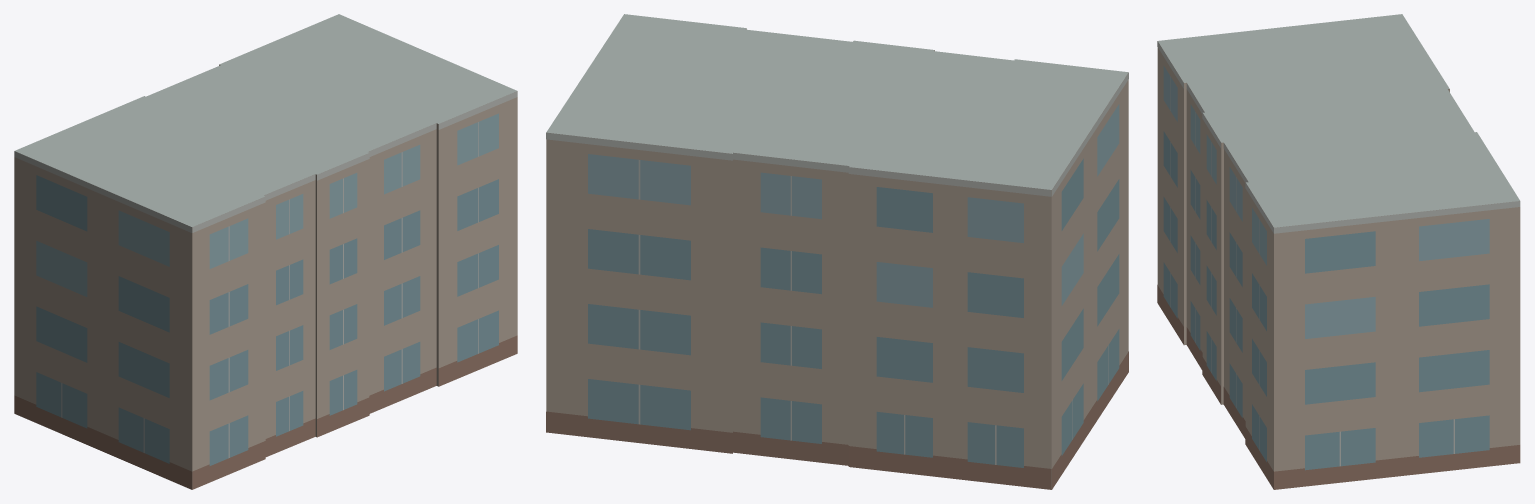
File: survey-upis-32651299.glb
3 renders of one model, left to right at view 1: azimuth 30°, elevation 25°; view 2: azimuth 150°, elevation 25°; view 3: azimuth 270°, elevation 25°, orthographic. The views are drawn at different scales.
Parts seen in each view (by area): view 1: survey-upis-32651299.tmp; view 2: survey-upis-32651299.tmp; view 3: survey-upis-32651299.tmp.
Part boxes in pixels (x1,y1,x2,y2): survey-upis-32651299.tmp: (14,14,517,489); survey-upis-32651299.tmp: (546,14,1128,489); survey-upis-32651299.tmp: (1157,14,1520,489).
Bounding box in the file's own units: 18.72 × 10.7 × 13.43.
